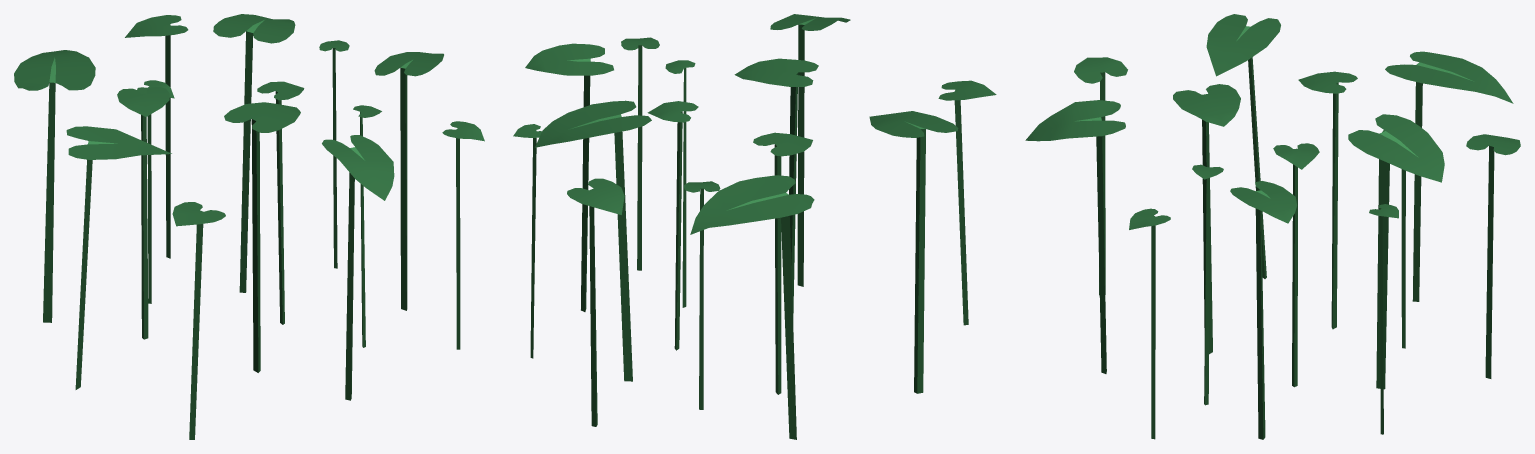
Rendered from plant_monstera_D_carpet.fbx.
3 renders of one model, left to right at view 1: azimuth 30°, elevation 25°; view 2: azimuth 150°, elevation 25°; view 3: azimuth 270°, elevation 25°, orthographic. The views are drawn at different scales.
Parts seen in each view (by area): view 1: plant_monstera_D_leaf_A, plant_monstera_D_leaf_D, plant_monstera_D_leaf_C, plant_monstera_D_leaf_E, plant_monstera_D_leaf_B, plant_monstera_D_leaf_F, plant_monstera_D_leaf_H, plant_monstera_D_leaf_J, plant_monstera_D_leaf_I, plant_monstera_D_leaf_K, plant_monstera_D_leaf_L, plant_monstera_D_leaf_N (+2 smaller); view 2: plant_monstera_D_leaf_A, plant_monstera_D_leaf_B, plant_monstera_D_leaf_C, plant_monstera_D_leaf_F, plant_monstera_D_leaf_E, plant_monstera_D_leaf_I, plant_monstera_D_leaf_H, plant_monstera_D_leaf_D, plant_monstera_D_leaf_J, plant_monstera_D_leaf_K, plant_monstera_D_leaf_L, plant_monstera_D_leaf_M (+2 smaller); view 3: plant_monstera_D_leaf_B, plant_monstera_D_leaf_A, plant_monstera_D_leaf_D, plant_monstera_D_leaf_C, plant_monstera_D_leaf_F, plant_monstera_D_leaf_E, plant_monstera_D_leaf_H, plant_monstera_D_leaf_I, plant_monstera_D_leaf_K, plant_monstera_D_leaf_L, plant_monstera_D_leaf_J, plant_monstera_D_leaf_O (+2 smaller).
Part boxes in pixels (box(x1,y1,x2,y2)): plant_monstera_D_leaf_A: box(14, 50, 95, 322); plant_monstera_D_leaf_D: box(322, 135, 394, 400); plant_monstera_D_leaf_C: box(66, 126, 171, 389); plant_monstera_D_leaf_E: box(224, 102, 300, 372); plant_monstera_D_leaf_B: box(213, 14, 295, 292); plant_monstera_D_leaf_F: box(374, 52, 443, 310); plant_monstera_D_leaf_H: box(117, 87, 169, 339); plant_monstera_D_leaf_J: box(172, 202, 225, 439); plant_monstera_D_leaf_I: box(125, 15, 188, 258); plant_monstera_D_leaf_K: box(257, 81, 304, 324); plant_monstera_D_leaf_L: box(442, 121, 484, 349); plant_monstera_D_leaf_N: box(319, 40, 349, 268); plant_monstera_D_leaf_A: box(690, 175, 814, 439); plant_monstera_D_leaf_B: box(535, 100, 651, 381); plant_monstera_D_leaf_C: box(869, 111, 958, 393); plant_monstera_D_leaf_F: box(525, 43, 613, 311); plant_monstera_D_leaf_E: box(734, 58, 818, 321); plant_monstera_D_leaf_I: box(567, 178, 624, 426); plant_monstera_D_leaf_H: box(753, 132, 812, 394); plant_monstera_D_leaf_D: box(770, 14, 850, 286); plant_monstera_D_leaf_J: box(938, 80, 996, 325); plant_monstera_D_leaf_K: box(647, 101, 698, 350); plant_monstera_D_leaf_L: box(621, 37, 659, 270); plant_monstera_D_leaf_M: box(684, 181, 720, 409); plant_monstera_D_leaf_B: box(1348, 114, 1444, 389); plant_monstera_D_leaf_A: box(1385, 51, 1513, 301); plant_monstera_D_leaf_D: box(1025, 100, 1125, 373); plant_monstera_D_leaf_C: box(1206, 14, 1280, 278); plant_monstera_D_leaf_F: box(1230, 181, 1296, 439); plant_monstera_D_leaf_E: box(1173, 84, 1240, 354); plant_monstera_D_leaf_H: box(1298, 71, 1357, 329); plant_monstera_D_leaf_I: box(1466, 134, 1520, 378); plant_monstera_D_leaf_K: box(1273, 143, 1319, 387); plant_monstera_D_leaf_L: box(1129, 208, 1170, 439); plant_monstera_D_leaf_J: box(1074, 57, 1127, 295); plant_monstera_D_leaf_O: box(1192, 164, 1223, 405).
Size of the model in its own units: 112 by 70.63 by 121.
